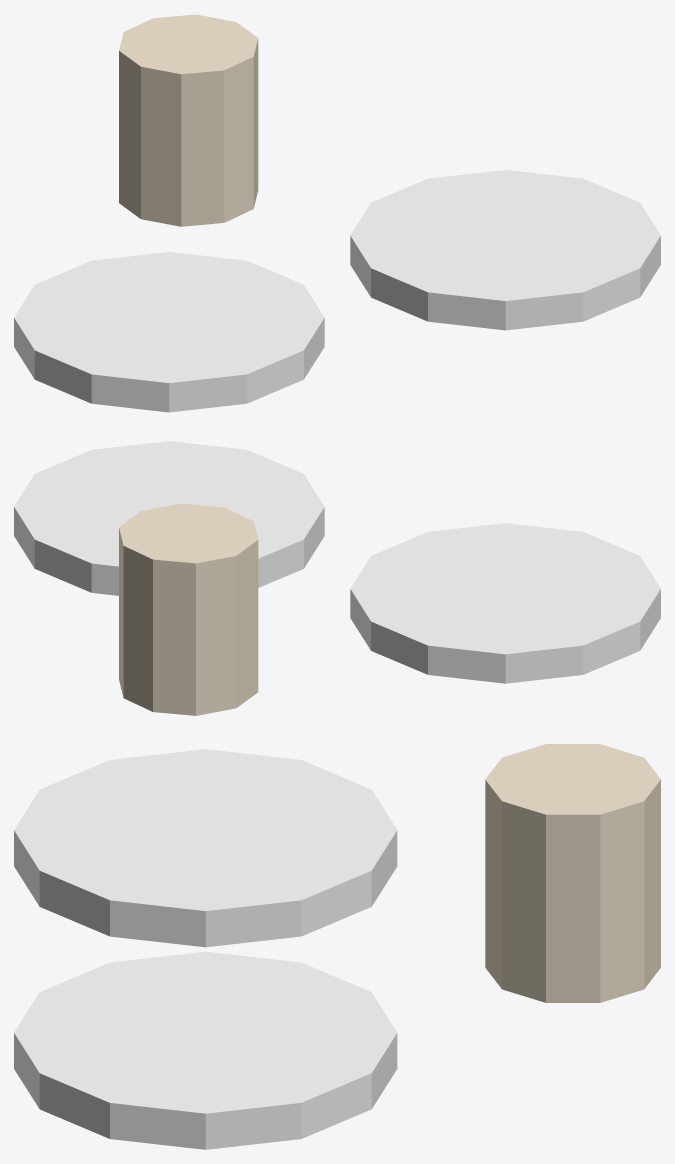
3 renders of one model, top to bottom at view 1: azimuth 30°, elevation 25°; view 2: azimuth 150°, elevation 25°; view 3: azimuth 270°, elevation 25°, orthographic. The views are drawn at different scales.
Parts seen in each view (by area): view 1: Plate, Plate.001, Cup; view 2: Plate, Plate.001, Cup; view 3: Plate, Plate.001, Cup.
Boxes of the visible parts, left/top/right/bottom form: Plate: left=14, top=252, right=324, bottom=412; Plate.001: left=350, top=170, right=660, bottom=330; Cup: left=119, top=14, right=258, bottom=226; Plate: left=350, top=523, right=660, bottom=683; Plate.001: left=14, top=441, right=324, bottom=595; Cup: left=119, top=503, right=258, bottom=715; Plate: left=14, top=749, right=397, bottom=947; Plate.001: left=14, top=951, right=397, bottom=1149; Cup: left=485, top=744, right=660, bottom=1002.
Bounding box in the file's own units: 0.54 × 0.13 × 0.405.
1 material, 1 textured.
